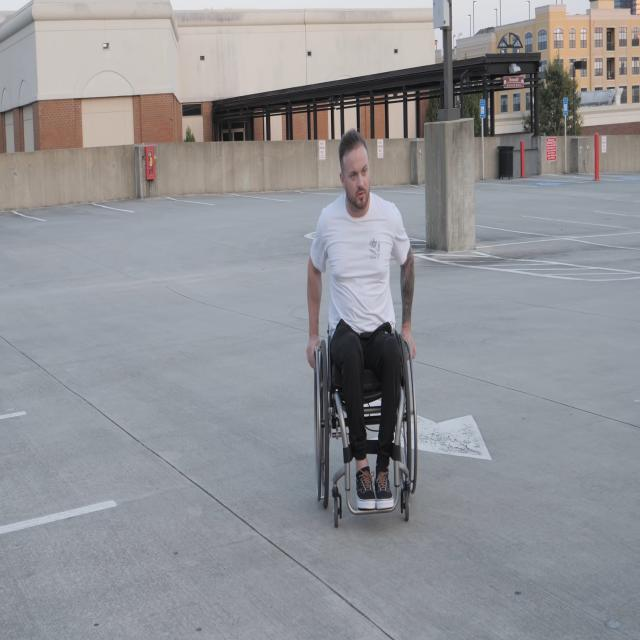wheelchairs: (314, 282, 417, 534)
